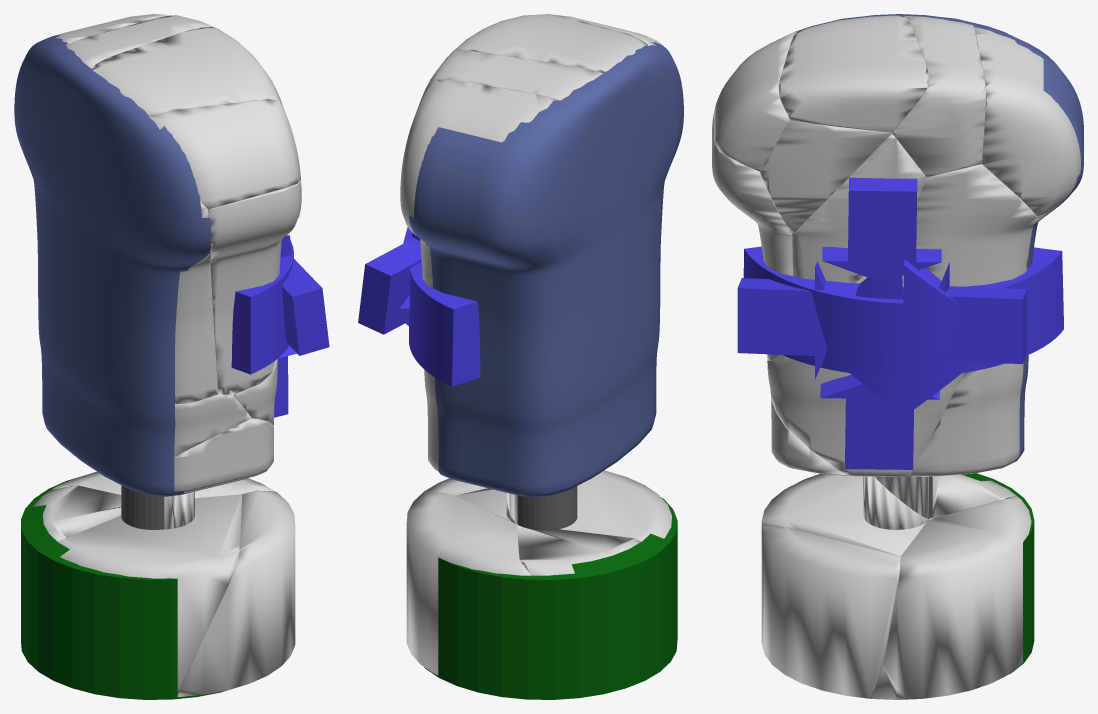
Rendered from BRIOCHE_BAG_RefArrAni.fbx.
The picture shows the model from 3 angles, left to right: view 1: azimuth 30°, elevation 25°; view 2: azimuth 150°, elevation 25°; view 3: azimuth 270°, elevation 25°; orthographic projection.
Visible parts, largest first — view 1: BRIOCHE_BAG_REF, BriocheBag_fracturepart17, BriocheBag_fracturepart2, BriocheBag_fracturepart21, BriocheBag_fracturepart20, BriocheBag_fracturepart6, BriocheBag_fracturepart7, BriocheBag_fracturepart2_6, Left_Arrrow, FLECHES_CENTRALE_1, BriocheBag_fracturepart13, BriocheBag_fracturepart11 (+5 smaller); view 2: BRIOCHE_BAG_REF, BriocheBag_fracturepart16, BriocheBag_fracturepart10, BriocheBag_fracturepart20, Right_ARROW, BriocheBag_fracturepart2, BriocheBag_fracturepart11, FLECHES_CENTRALE_1, BriocheBag_fracturepart13, BriocheBag_fracturepart1, BriocheBag_fracturepart17; view 3: FLECHES_CENTRALE_1, BriocheBag_fracturepart16, BriocheBag_fracturepart17, Left_Arrrow, BriocheBag_fracturepart20, BriocheBag_fracturepart10, BriocheBag_fracturepart19, BriocheBag_fracturepart11, BriocheBag_fracturepart1, BriocheBag_fracturepart12_5, BriocheBag_fracturepart15, BriocheBag_fracturepart21 (+10 smaller).
Boxes of the visible parts, x1=… form: BRIOCHE_BAG_REF: x1=14, y1=35, x2=248, y2=699; BriocheBag_fracturepart17: x1=177, y1=490, x2=295, y2=696; BriocheBag_fracturepart2: x1=58, y1=494, x2=241, y2=691; BriocheBag_fracturepart21: x1=149, y1=99, x2=300, y2=208; BriocheBag_fracturepart20: x1=91, y1=27, x2=282, y2=116; BriocheBag_fracturepart6: x1=208, y1=180, x2=301, y2=394; BriocheBag_fracturepart7: x1=175, y1=201, x2=218, y2=403; BriocheBag_fracturepart2_6: x1=174, y1=418, x2=273, y2=492; Left_Arrrow: x1=231, y1=235, x2=293, y2=374; FLECHES_CENTRALE_1: x1=274, y1=215, x2=329, y2=417; BriocheBag_fracturepart13: x1=33, y1=485, x2=121, y2=541; BriocheBag_fracturepart11: x1=65, y1=15, x2=216, y2=67; BRIOCHE_BAG_REF: x1=409, y1=42, x2=683, y2=699; BriocheBag_fracturepart16: x1=406, y1=492, x2=531, y2=675; BriocheBag_fracturepart10: x1=400, y1=79, x2=559, y2=234; BriocheBag_fracturepart20: x1=453, y1=14, x2=648, y2=72; Right_ARROW: x1=409, y1=262, x2=480, y2=386; BriocheBag_fracturepart2: x1=456, y1=470, x2=671, y2=541; BriocheBag_fracturepart11: x1=426, y1=50, x2=603, y2=100; FLECHES_CENTRALE_1: x1=358, y1=232, x2=421, y2=334; BriocheBag_fracturepart13: x1=516, y1=524, x2=640, y2=575; BriocheBag_fracturepart1: x1=424, y1=370, x2=438, y2=471; BriocheBag_fracturepart17: x1=423, y1=478, x2=487, y2=495; FLECHES_CENTRALE_1: x1=737, y1=177, x2=1026, y2=469; BriocheBag_fracturepart16: x1=883, y1=496, x2=1031, y2=699; BriocheBag_fracturepart17: x1=761, y1=525, x2=900, y2=698; Left_Arrrow: x1=743, y1=246, x2=974, y2=417; BriocheBag_fracturepart20: x1=778, y1=15, x2=928, y2=132; BriocheBag_fracturepart10: x1=973, y1=25, x2=1080, y2=220; BriocheBag_fracturepart19: x1=903, y1=164, x2=1037, y2=286; BriocheBag_fracturepart11: x1=892, y1=16, x2=985, y2=177; BriocheBag_fracturepart1: x1=910, y1=363, x2=1023, y2=476; BriocheBag_fracturepart12_5: x1=767, y1=354, x2=964, y2=477; BriocheBag_fracturepart15: x1=760, y1=120, x2=891, y2=233; BriocheBag_fracturepart21: x1=714, y1=31, x2=797, y2=171.
Bounding box in the file's own units: 330 × 774 × 435.
